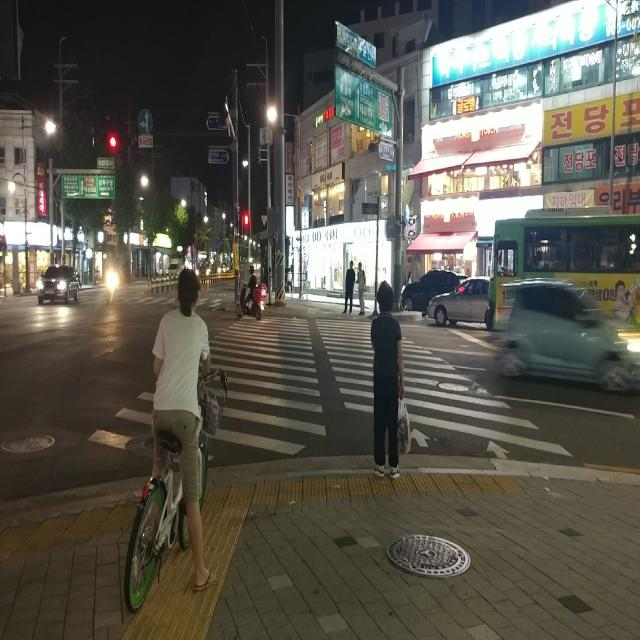횡단보도: (88, 315, 572, 460)
